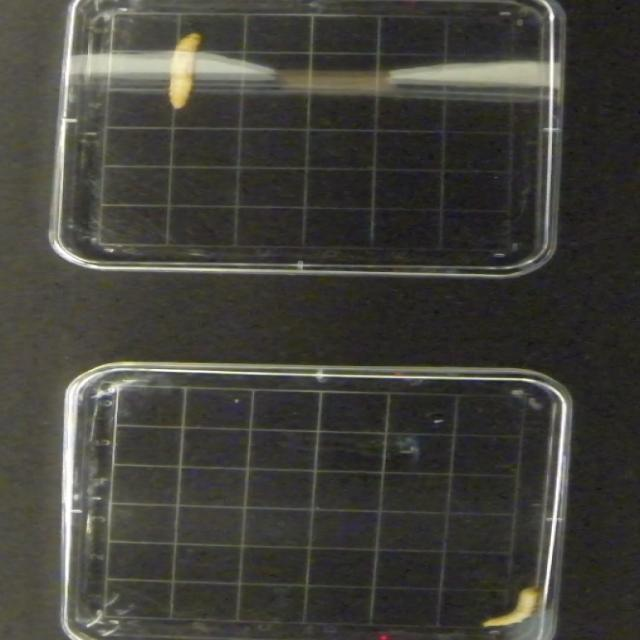larva: (160, 30, 208, 110), (480, 586, 542, 629)
